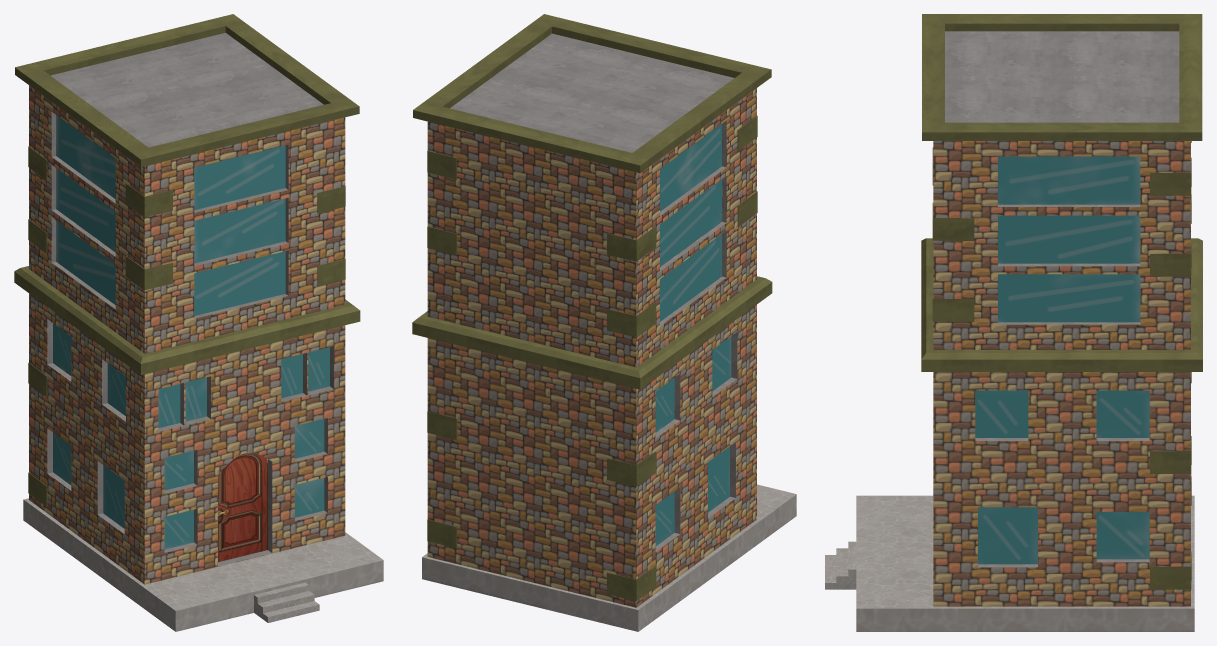
Rendered from cartoon_building.obj.
3 renders of one model, left to right at view 1: azimuth 30°, elevation 25°; view 2: azimuth 150°, elevation 25°; view 3: azimuth 270°, elevation 25°, orthographic. The views are drawn at different scales.
Parts seen in each view (by area): view 1: cartoon_building; view 2: cartoon_building; view 3: cartoon_building.
Part boxes in pixels (x1,y1,x2,y2): cartoon_building: (14,14,383,631); cartoon_building: (412,14,796,631); cartoon_building: (825,14,1202,631).
Bounding box in the file's own units: 67.46 × 133 × 90.51.
